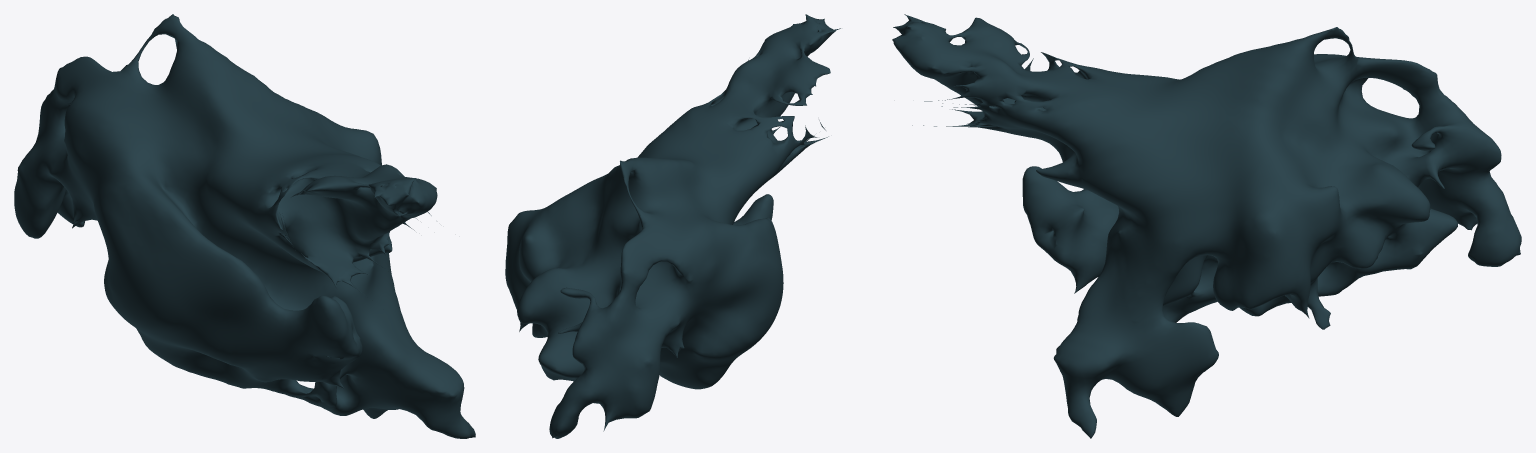
Rendered from Right Atrium.obj.
3 views of the same model, side by side, from view 1: azimuth 30°, elevation 25°; view 2: azimuth 150°, elevation 25°; view 3: azimuth 270°, elevation 25° (orthographic). The views are drawn at different scales.
Visible parts, largest first — view 1: grp1; view 2: grp1; view 3: grp1.
Part boxes in pixels (x1,y1,x2,y2): grp1: (14, 14, 475, 438); grp1: (505, 14, 840, 438); grp1: (892, 14, 1521, 438).
Size of the model in its own units: 41.95 by 51.45 by 87.54.
